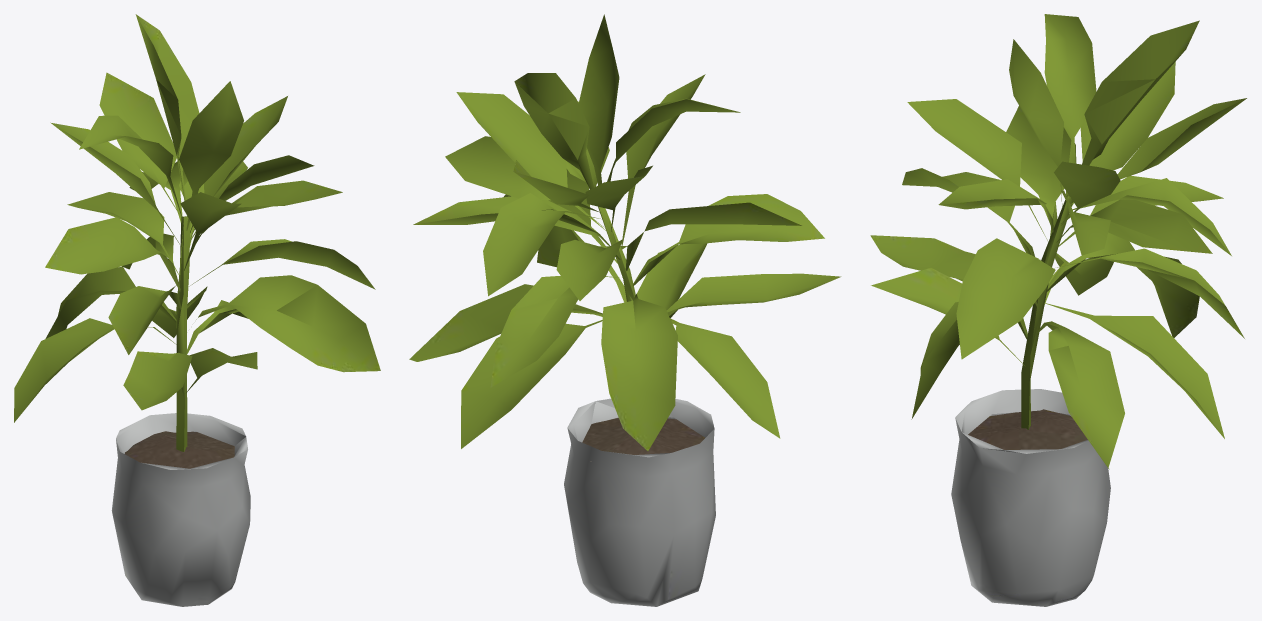
File: Plant0002.obj
3 renders of one model, left to right at view 1: azimuth 30°, elevation 25°; view 2: azimuth 150°, elevation 25°; view 3: azimuth 270°, elevation 25°, orthographic. The views are drawn at different scales.
Size of the model in its own units: 0.651 by 0.987 by 0.582.
Materials: 1 (1 with a texture image).
